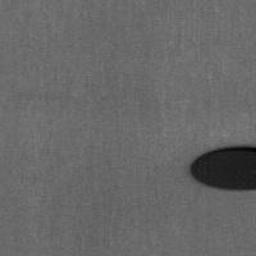Punching: (191, 147, 256, 189)
